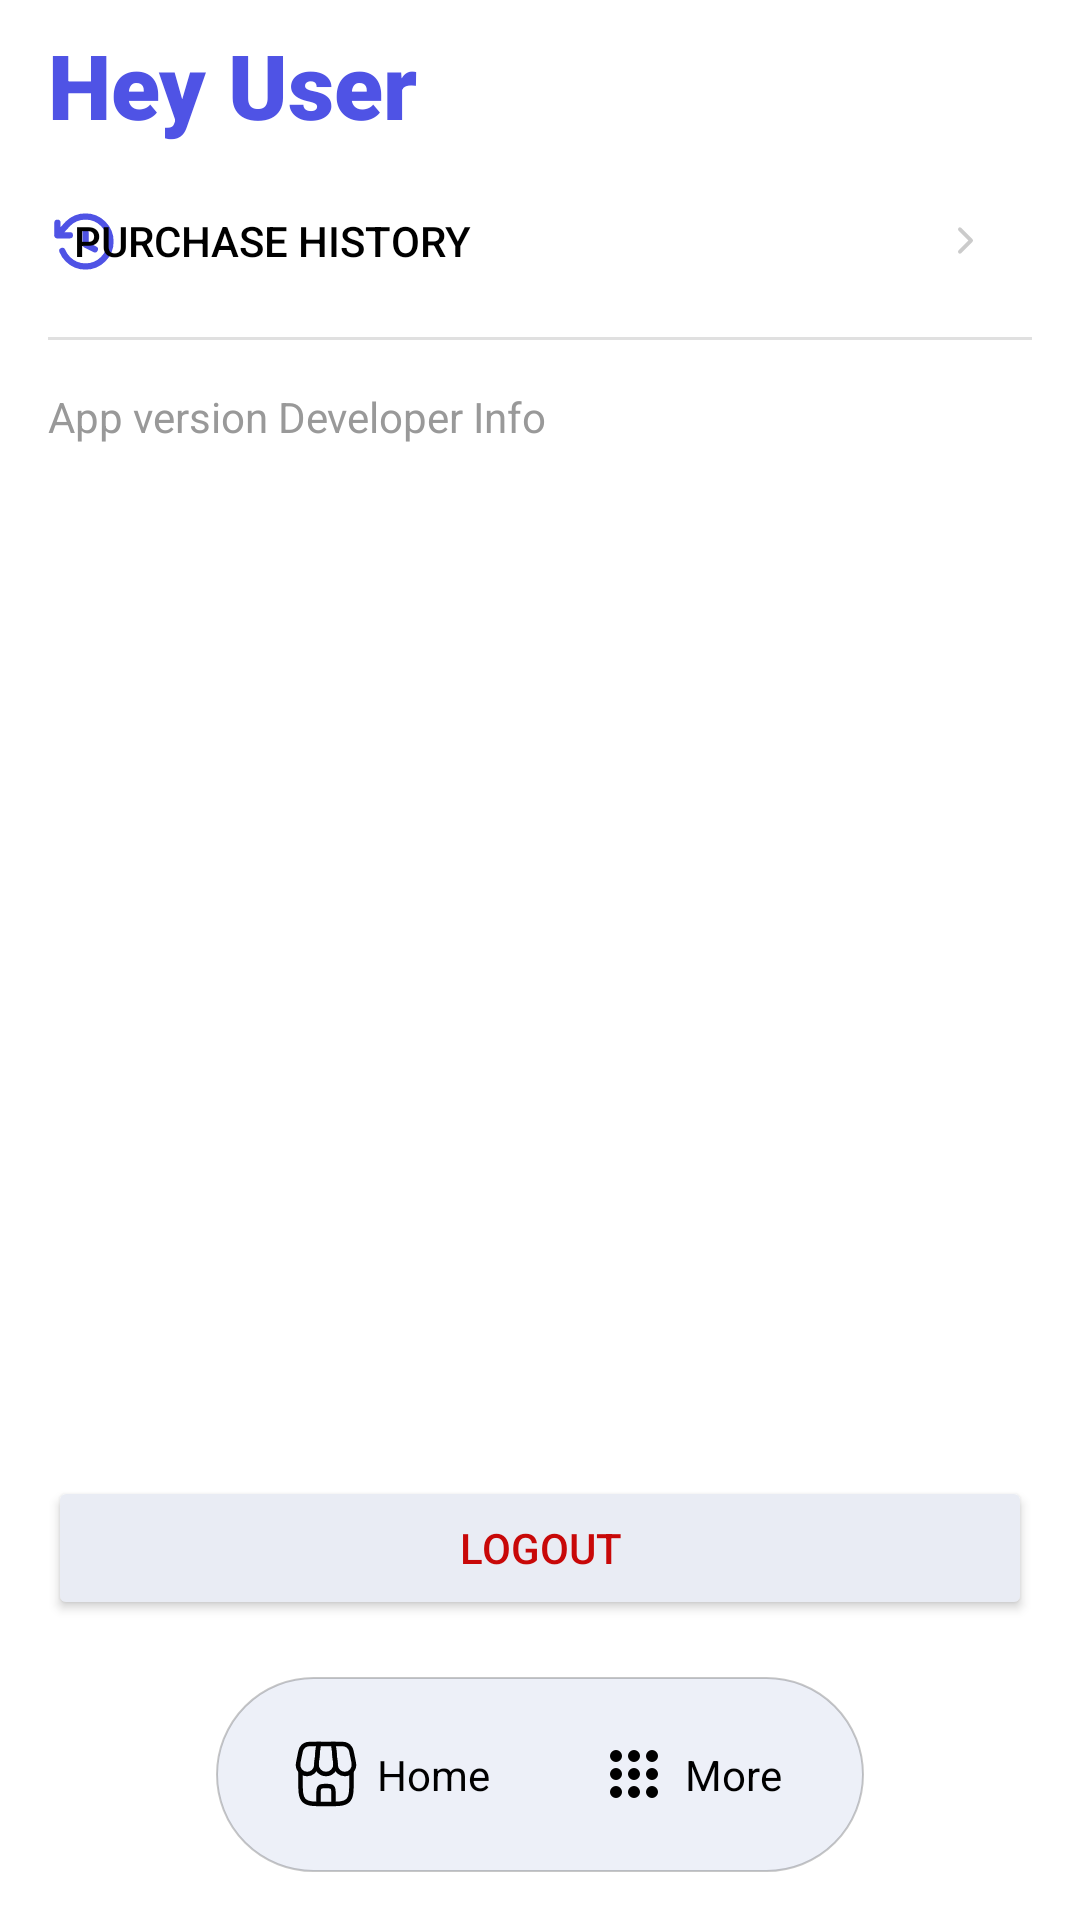

Named icons in this screenshot (1080 × 1920) and their centers, (x,y):
chevron right: (965,240)
shop tab: (326,1774)
